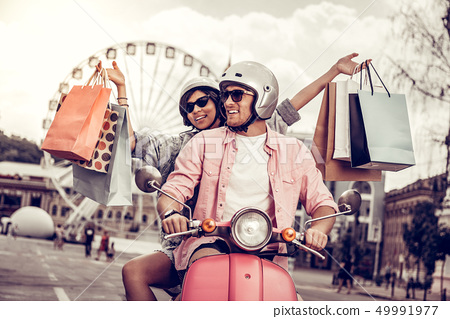helmet: (223, 59, 282, 120), (177, 68, 220, 102)
